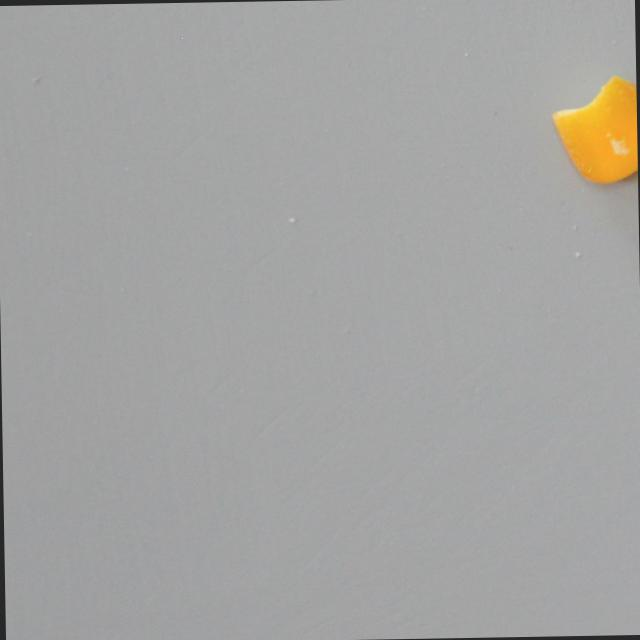pelicula: (551, 73, 638, 186)
